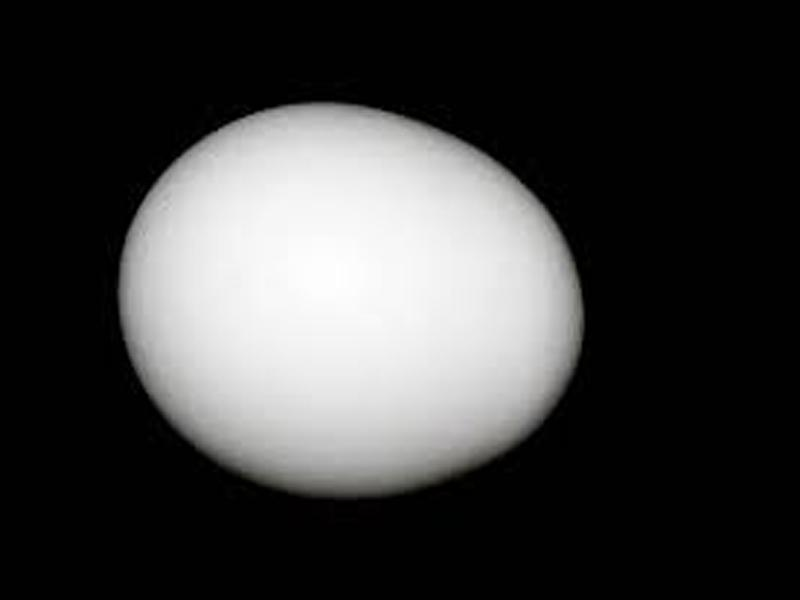Eggs: (115, 105, 578, 489)
